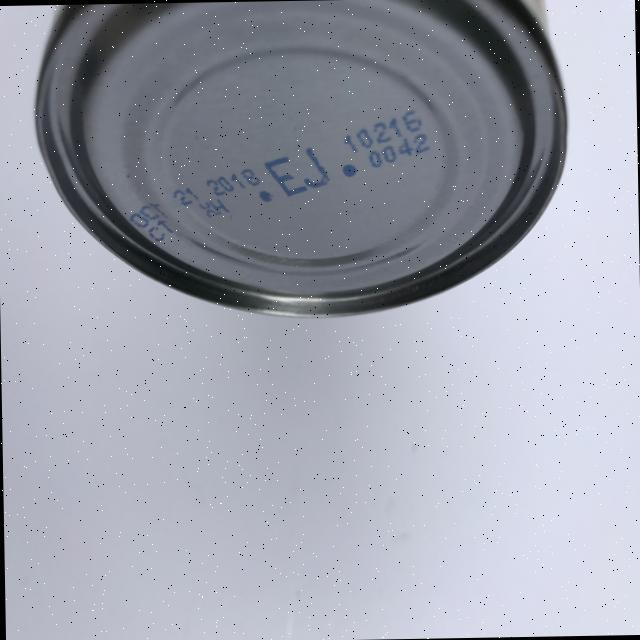metal: (31, 0, 570, 324)
